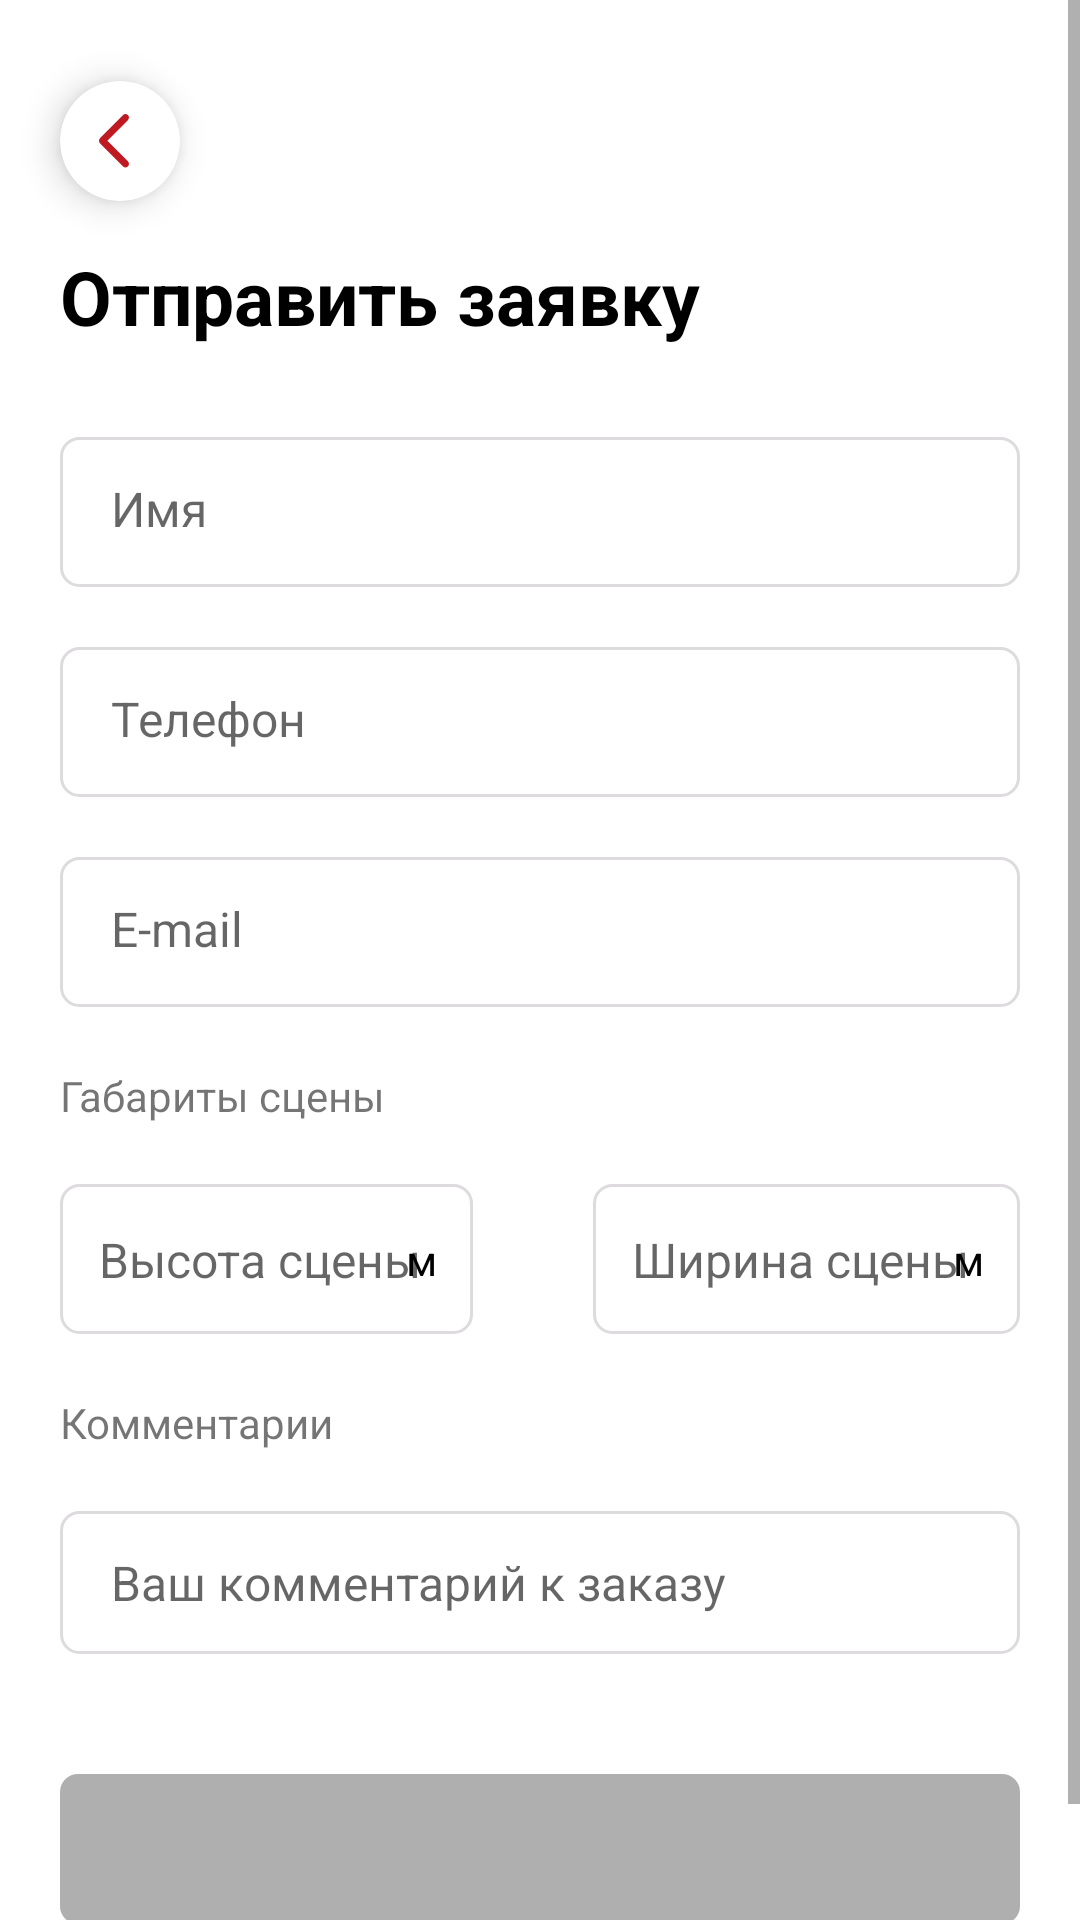

Screen size 1080*1920. Icon name, then its center in pixels as (x,y):
left: (114,141)
